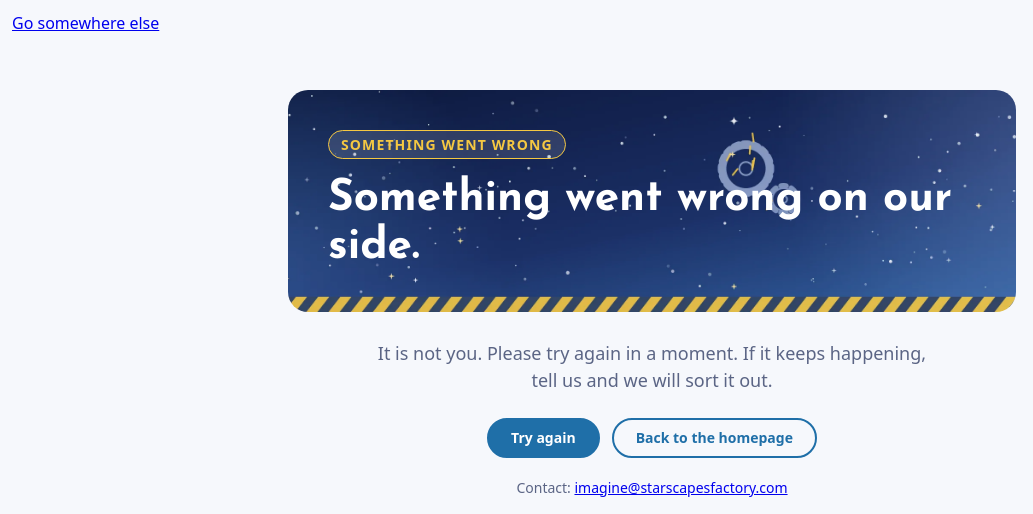
it: the error catcher › tries the page again when asked
This screenshot has width=1033, height=514.
Click the button "Try again": click(543, 438) [487,418,600,458]
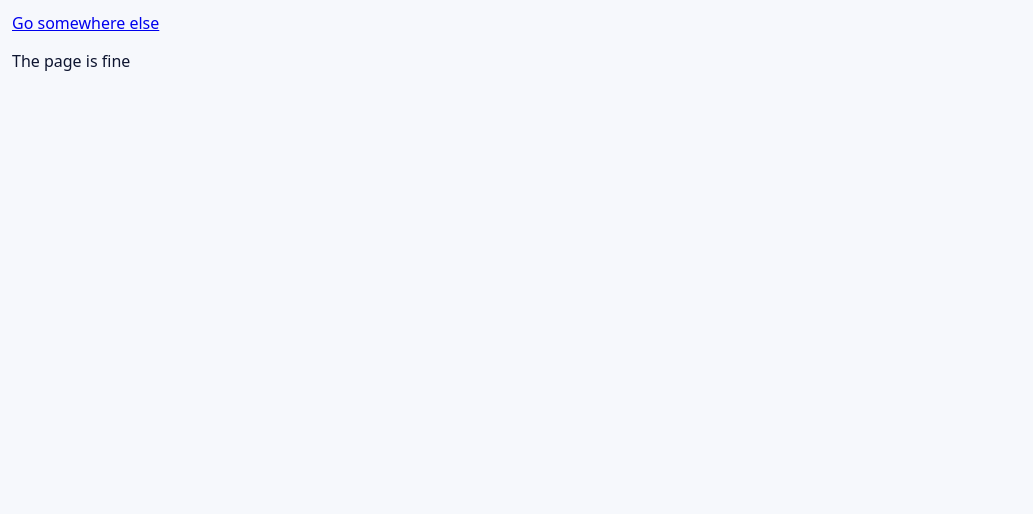
Check: the text "The page is fine" is shown, box [12,50,130,72]
